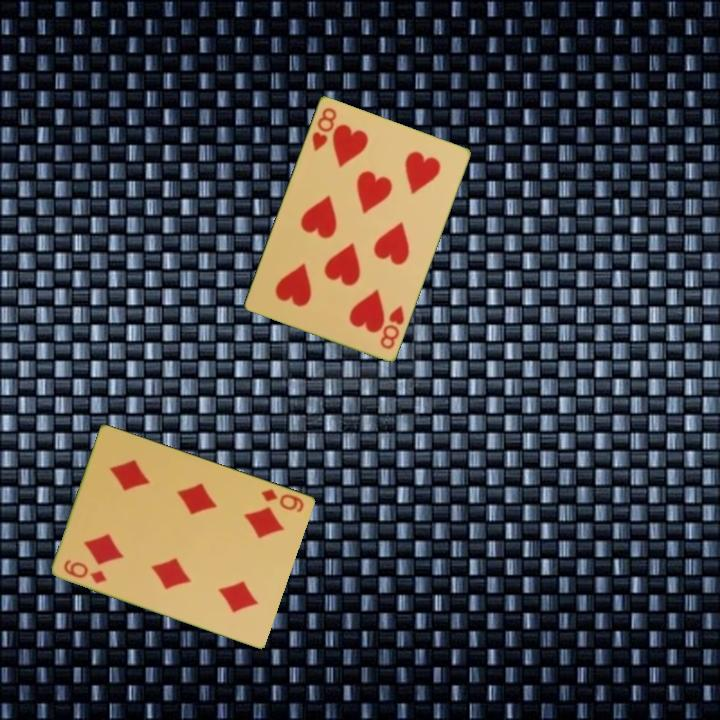6d: (60, 556, 110, 586), (258, 485, 307, 515)
8h: (308, 103, 339, 154), (376, 301, 407, 352)
